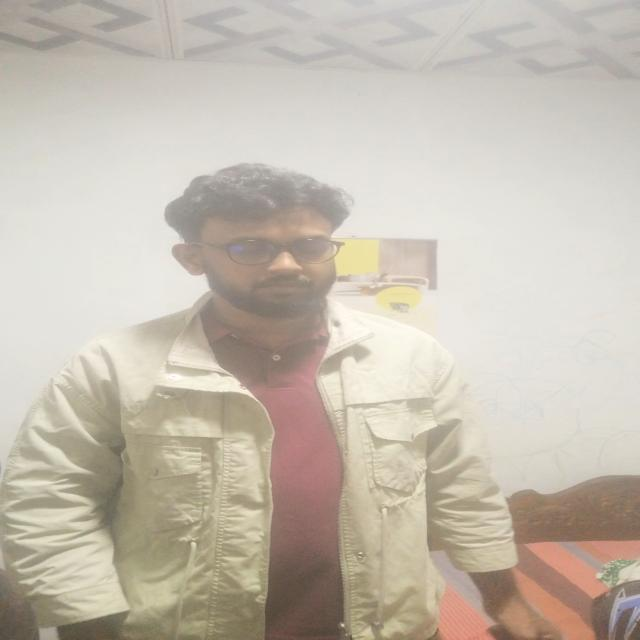Jacket_Wearer: (13, 295, 523, 640)
Person: (9, 164, 545, 640)
